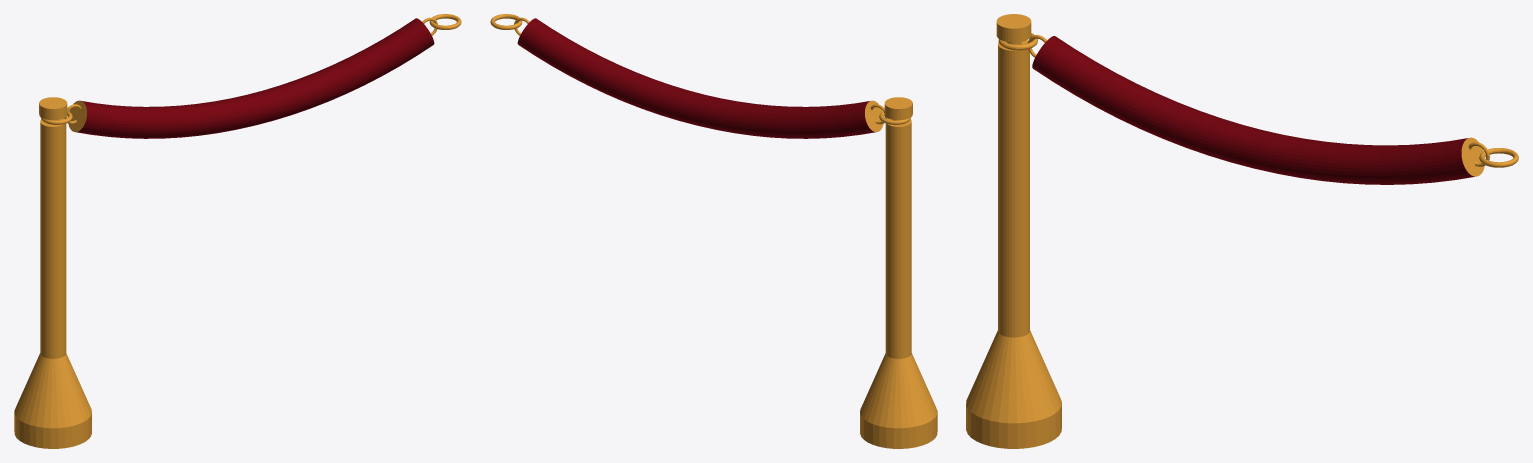
File: BarierParts.fbx
3 renders of one model, left to right at view 1: azimuth 30°, elevation 25°; view 2: azimuth 150°, elevation 25°; view 3: azimuth 330°, elevation 25°, orthographic. The views are drawn at different scales.
Parts seen in each view (by area): view 1: Barier, BarierColumn; view 2: Barier, BarierColumn; view 3: Barier, BarierColumn.
Boxes of the visible parts, x1,y1,x2,y2 form: Barier: (41, 14, 461, 138); BarierColumn: (14, 97, 91, 448); Barier: (490, 14, 910, 138); BarierColumn: (860, 97, 937, 448); Barier: (998, 33, 1518, 184); BarierColumn: (966, 14, 1061, 448).
Bounding box in the file's own units: 222 × 159 × 34.
